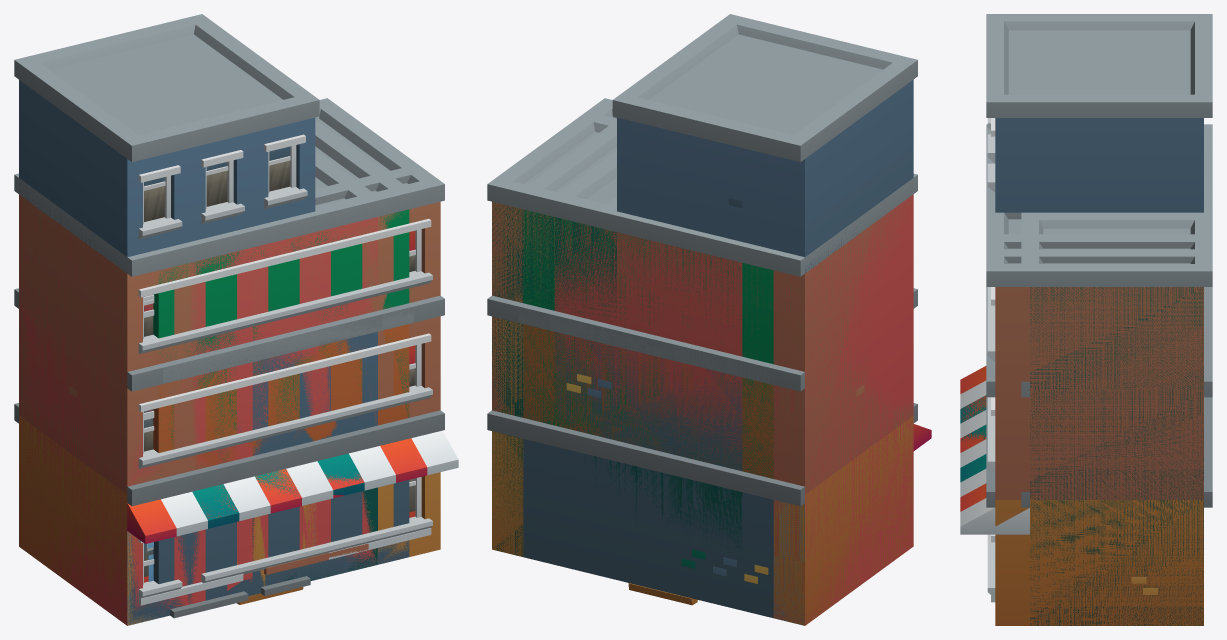
File: city.glb
3 renders of one model, left to right at view 1: azimuth 30°, elevation 25°; view 2: azimuth 150°, elevation 25°; view 3: azimuth 270°, elevation 25°, orthographic. The views are drawn at different scales.
Visible parts, largest first — view 1: building_E_withoutBase, building_H_withoutBase, building_F_withoutBase, building_B_withoutBase, building_C_withoutBase, building_D_withoutBase, building_A_withoutBase, building_G_withoutBase; view 2: building_E_withoutBase, building_H_withoutBase, building_F_withoutBase, building_B_withoutBase, building_C_withoutBase, building_D_withoutBase, building_A_withoutBase, building_G_withoutBase; view 3: building_E_withoutBase, building_H_withoutBase, building_G_withoutBase, building_F_withoutBase, building_C_withoutBase, building_D_withoutBase, building_A_withoutBase, building_B_withoutBase.
Part boxes in pixels (x1,y1,x2,y2): building_E_withoutBase: (15,98,458,625); building_H_withoutBase: (14,14,319,625); building_F_withoutBase: (14,102,444,625); building_B_withoutBase: (153,311,413,618); building_C_withoutBase: (190,150,382,610); building_D_withoutBase: (153,120,413,575); building_A_withoutBase: (192,320,395,605); building_G_withoutBase: (127,101,410,625); building_E_withoutBase: (487,98,931,625); building_H_withoutBase: (487,14,917,505); building_F_withoutBase: (487,98,917,624); building_B_withoutBase: (518,308,773,618); building_C_withoutBase: (550,150,742,503); building_D_withoutBase: (518,125,773,478); building_A_withoutBase: (550,314,742,568); building_G_withoutBase: (487,111,916,624); building_E_withoutBase: (960,124,1212,625); building_H_withoutBase: (986,14,1212,534); building_G_withoutBase: (960,125,1212,625); building_F_withoutBase: (986,124,1212,597); building_C_withoutBase: (986,153,1212,554); building_D_withoutBase: (986,220,1212,366); building_A_withoutBase: (960,395,995,496); building_B_withoutBase: (987,403,1212,573).
Size of the model in its own units: 2.01 by 3.11 by 1.45.
Materials: 1 (1 with a texture image).
